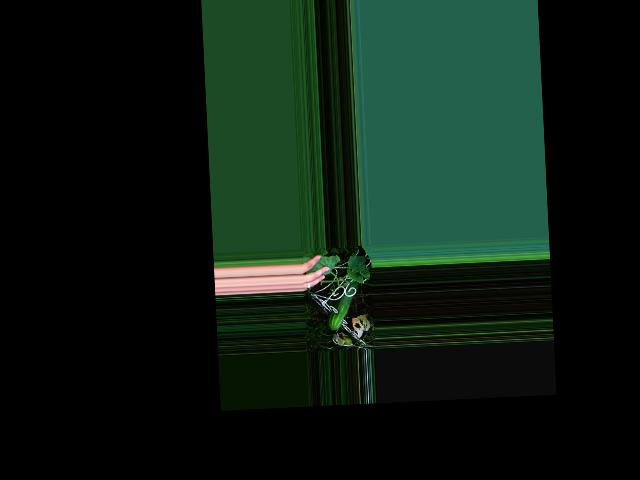cucumber: (325, 280, 360, 330)
